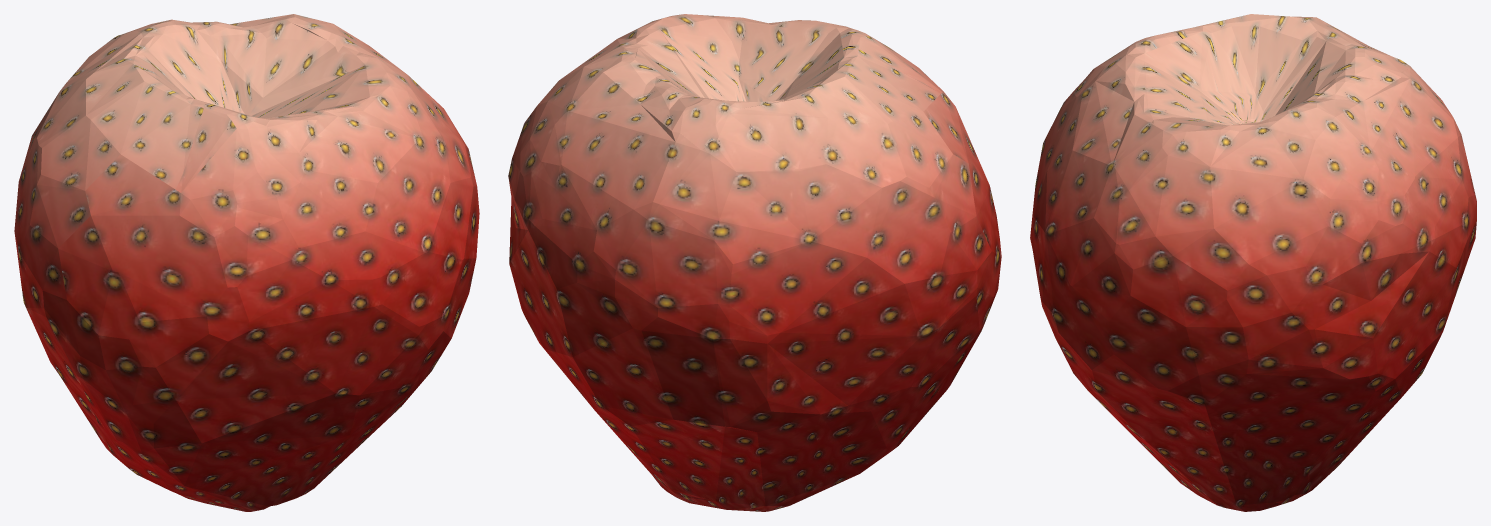
3 renders of one model, left to right at view 1: azimuth 30°, elevation 25°; view 2: azimuth 150°, elevation 25°; view 3: azimuth 270°, elevation 25°, orthographic. The views are drawn at different scales.
Parts seen in each view (by area): view 1: _000_Meshed; view 2: _000_Meshed; view 3: _000_Meshed.
Part boxes in pixels (x1,y1,x2,y2): _000_Meshed: (14,14,479,511); _000_Meshed: (508,14,1001,511); _000_Meshed: (1030,14,1476,511).
Bounding box in the file's own units: 0.1127 × 0.1067 × 0.1146.
Materials: 1 (1 with a texture image).
